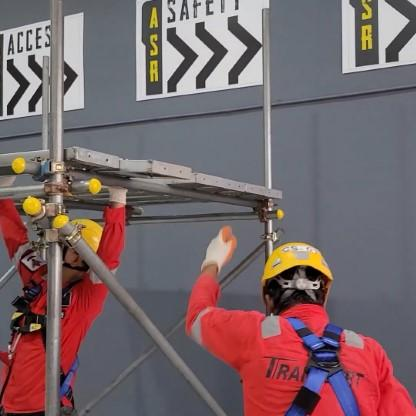helmet: (256, 240, 342, 314), (46, 208, 113, 273)
